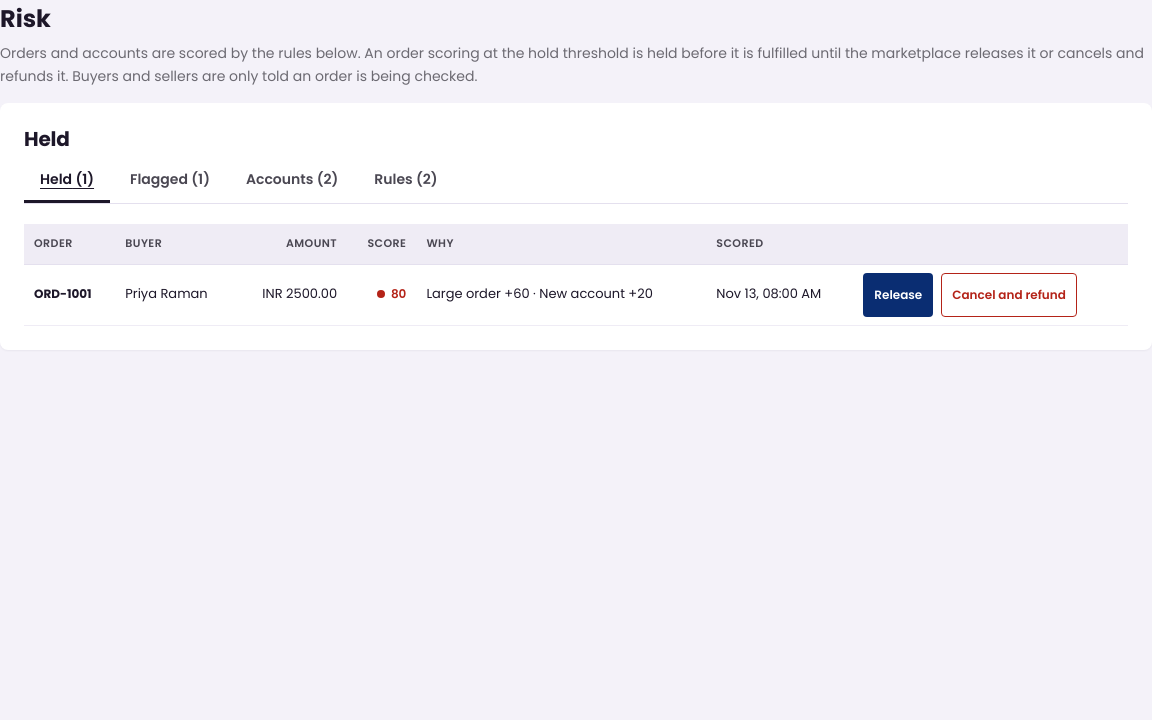
it: OperatorRisk › shows the database refusal and keeps the row
Click the button "Release" at (898, 295), box [863,273,933,317]
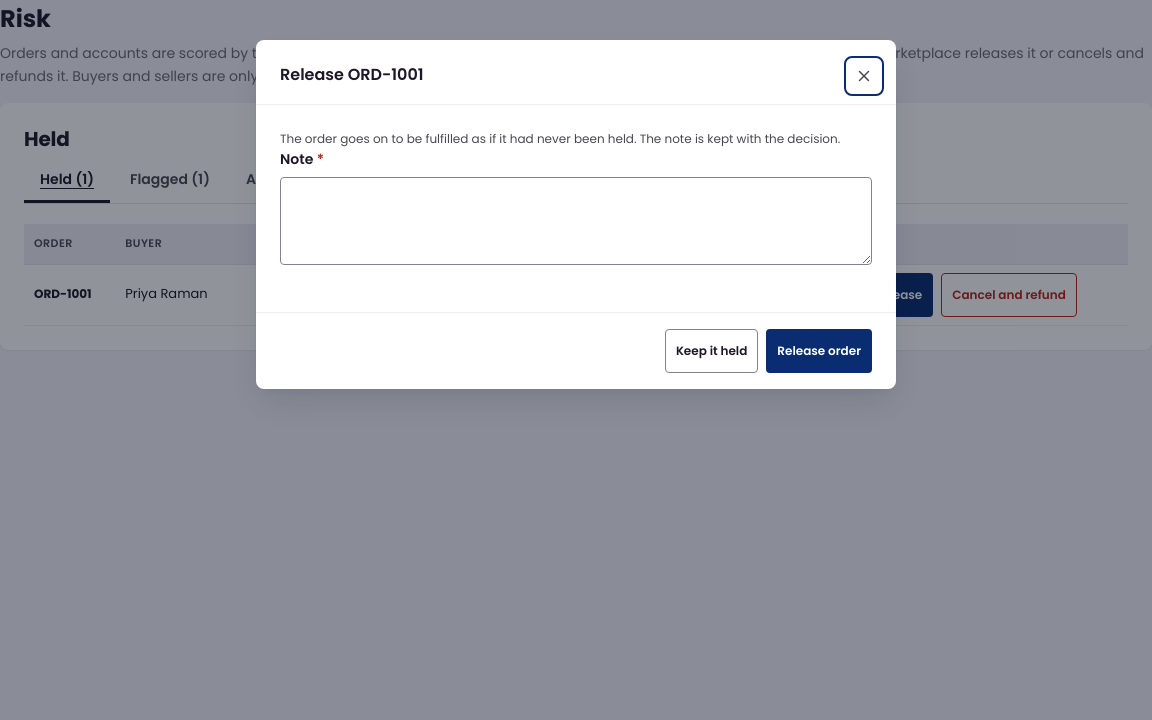
Type "ok" into the text box labelled "Note *" at (576, 221), box [280,177,872,265]
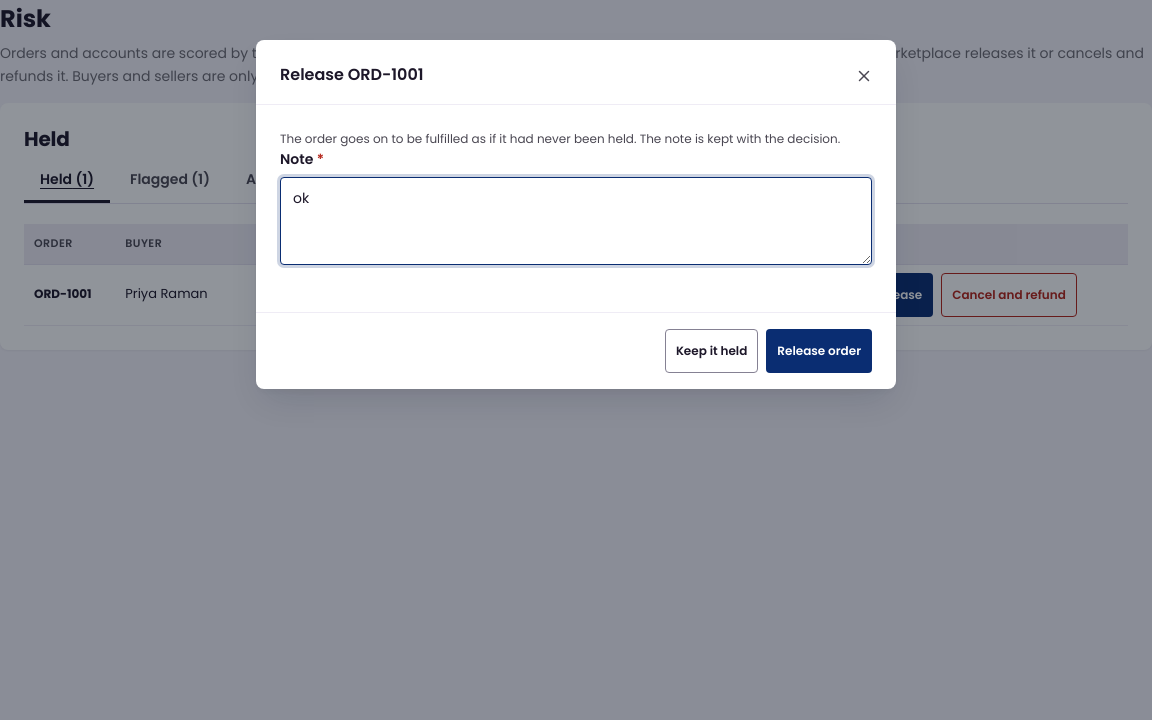
Click the button "Release order" at (819, 351), box [766,329,872,373]
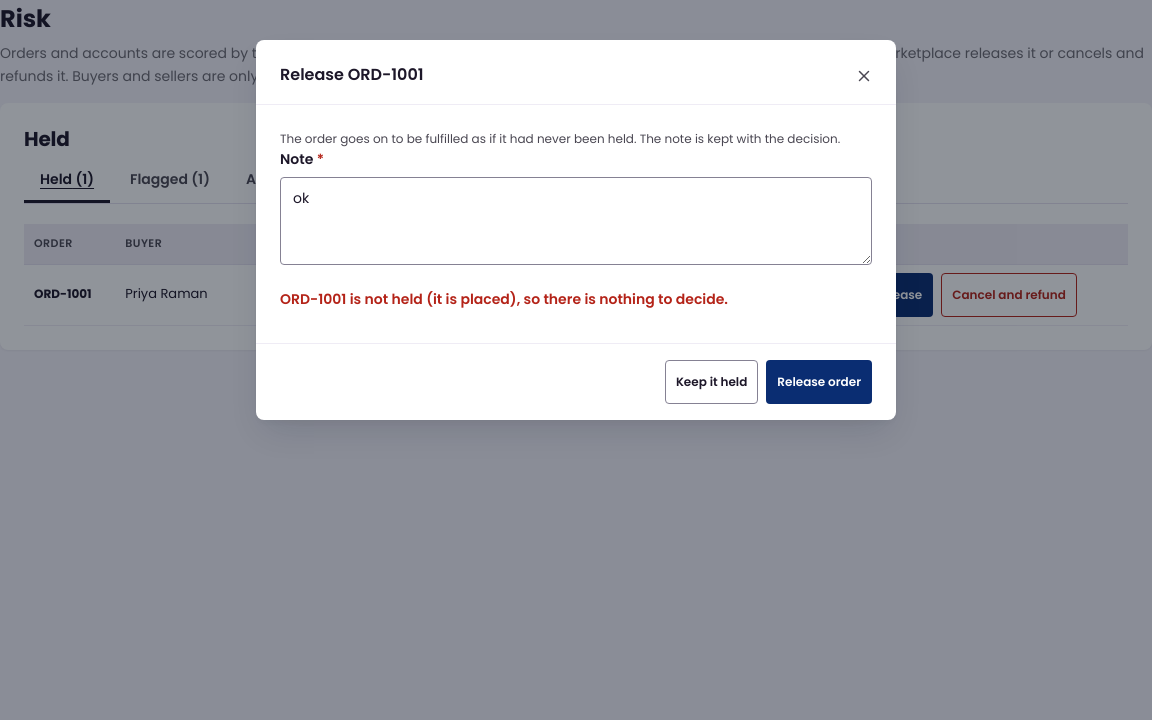
Expected: the text "Priya Raman" is shown, [115,264,236,325]
Expected: the message shows "is not held", [280,289,728,309]
